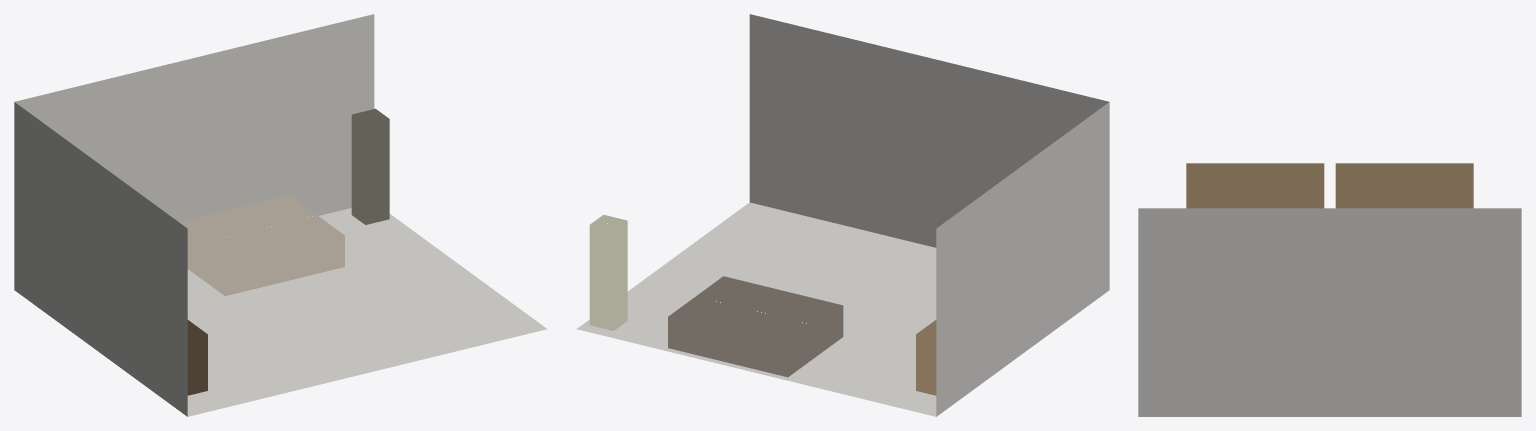
The picture shows the model from 3 angles, left to right: view 1: azimuth 30°, elevation 25°; view 2: azimuth 150°, elevation 25°; view 3: azimuth 270°, elevation 25°; orthographic projection. The views are drawn at different scales.
Parts seen in each view (by area): view 1: Room, bed_mesh, floor_lamp_mesh, kitchen_cabinet_1_mesh; view 2: Room, bed_mesh, floor_lamp_mesh, kitchen_cabinet_0_mesh; view 3: Room, kitchen_cabinet_0_mesh, kitchen_cabinet_1_mesh.
Part boxes in pixels (box(x1,y1,x2,y2)): Room: box(14, 14, 547, 416); bed_mesh: box(179, 195, 344, 296); floor_lamp_mesh: box(351, 108, 389, 224); kitchen_cabinet_1_mesh: box(187, 320, 207, 395); Room: box(576, 14, 1109, 416); bed_mesh: box(668, 276, 843, 377); floor_lamp_mesh: box(589, 214, 627, 330); kitchen_cabinet_0_mesh: box(916, 320, 936, 395); Room: box(1138, 208, 1521, 416); kitchen_cabinet_0_mesh: box(1335, 163, 1473, 208); kitchen_cabinet_1_mesh: box(1186, 163, 1324, 208).
Size of the model in its own units: 6 by 3 by 5.
